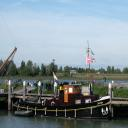tugboat: (14, 40, 113, 127)
